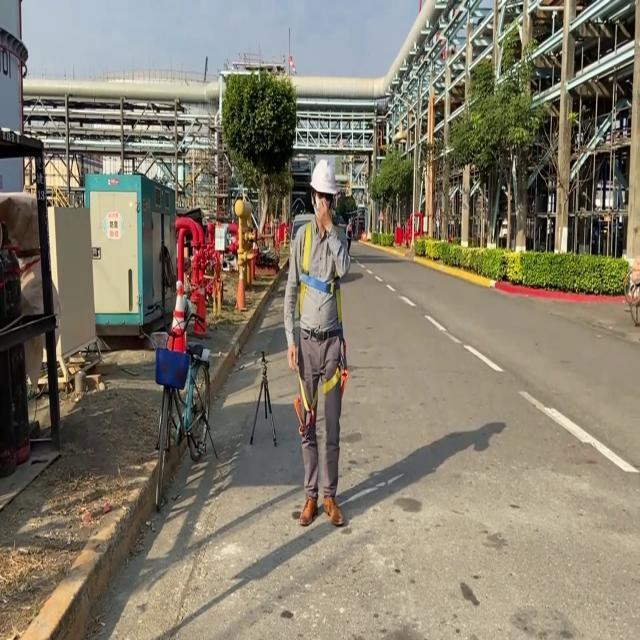Harness: (299, 223, 342, 326), (294, 374, 318, 438)
